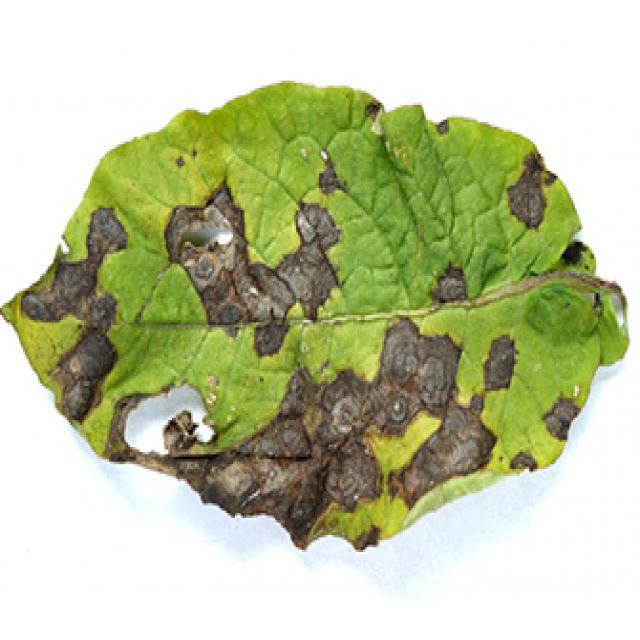earlyblight: (138, 320, 496, 546), (165, 184, 339, 356), (21, 208, 126, 421), (456, 299, 521, 402), (508, 152, 556, 228), (544, 398, 580, 439), (432, 264, 466, 302), (319, 150, 348, 194), (351, 527, 379, 551), (510, 452, 538, 471), (365, 97, 384, 121), (435, 118, 448, 133)
